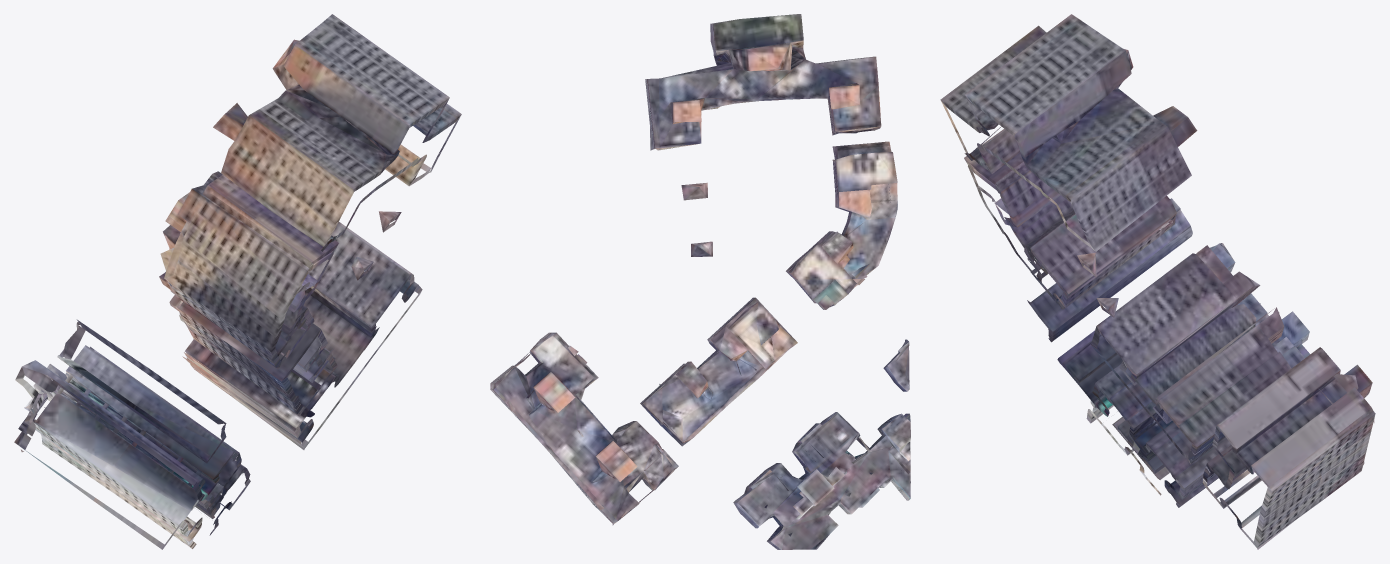
3 views of the same model, side by side, from view 1: azimuth 30°, elevation 25°; view 2: azimuth 150°, elevation 25°; view 3: azimuth 270°, elevation 25° (orthographic). The views are drawn at different scales.
Bounding box in the file's own units: 131 × 153 × 119.
Materials: 1 (1 with a texture image).
